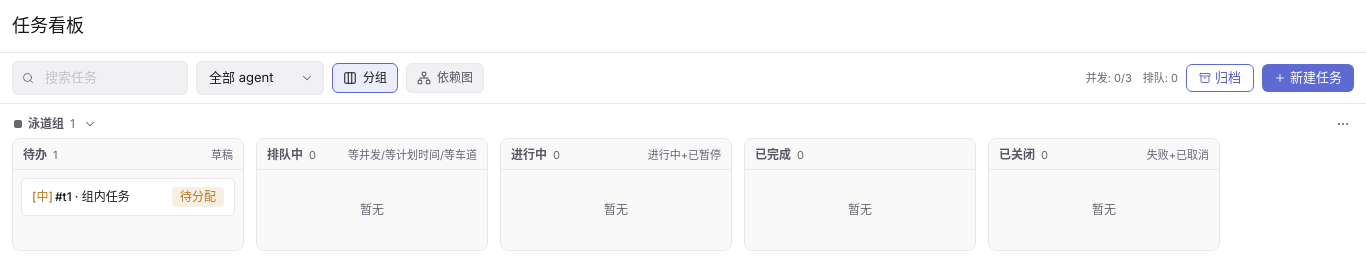
Scenario: TaskBoardView 主区（看板重构 Task 11） › 切换分组开关 → 泳道/平铺切换 + localStorage 持久化 key kanban-lane-mode
Expected: the heading "泳道组 1" is shown, [14,116,75,132]
# 切回平铺：泳道 heading 消失（页面 h2 标题仍在）、卡片带组 chip
What coordinates should you click on to do the following:
click the button "分组"
I would click on:
 (365, 78)
Its box is [332,63,398,93].
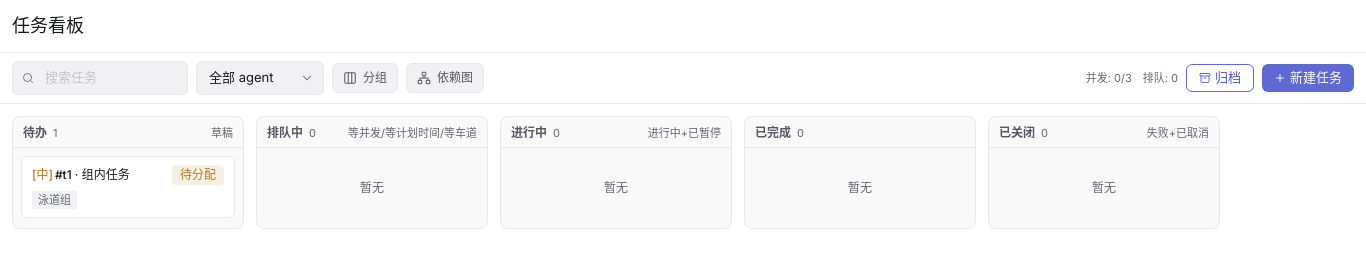
Expected: the text "泳道组" is shown, [32,190,77,209]
What coordinates should you click on to do the following:
click the button "分组"
I would click on:
 (365, 78)
Its box is [332,63,398,93].
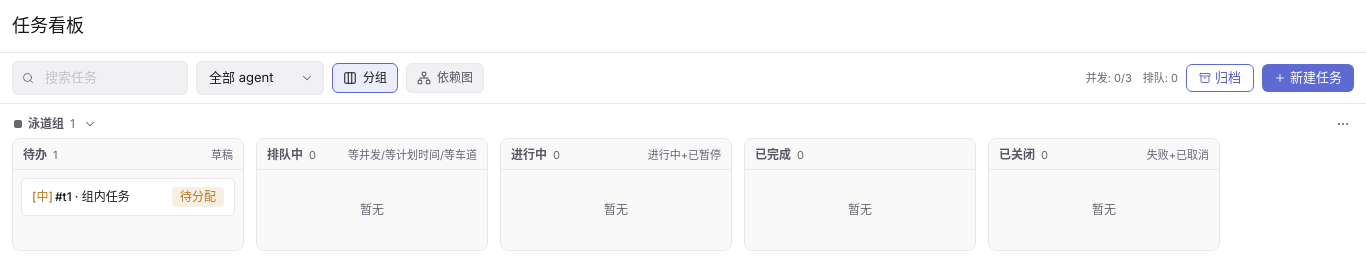
Expected: the heading "泳道组 1" is shown, [14,116,75,132]
